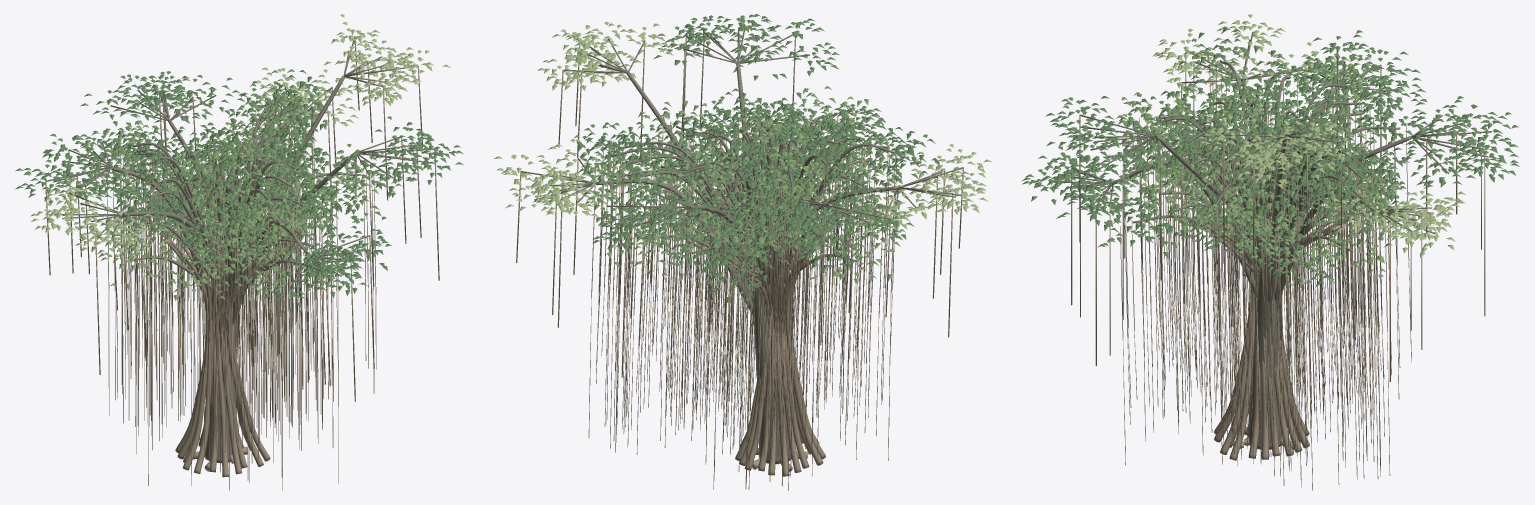
File: dongpo-east-banyan-2.glb
3 renders of one model, left to right at view 1: azimuth 30°, elevation 25°; view 2: azimuth 150°, elevation 25°; view 3: azimuth 270°, elevation 25°, orthographic. The views are drawn at different scales.
Parts seen in each view (by area): view 1: dongpo-east-banyan-2; view 2: dongpo-east-banyan-2; view 3: dongpo-east-banyan-2.
Part boxes in pixels (<box>): dongpo-east-banyan-2: <box>15,14,463,490</box>; dongpo-east-banyan-2: <box>494,14,991,490</box>; dongpo-east-banyan-2: <box>1021,14,1519,490</box>.
Size of the model in its own units: 11.91 by 10.27 by 11.38.
